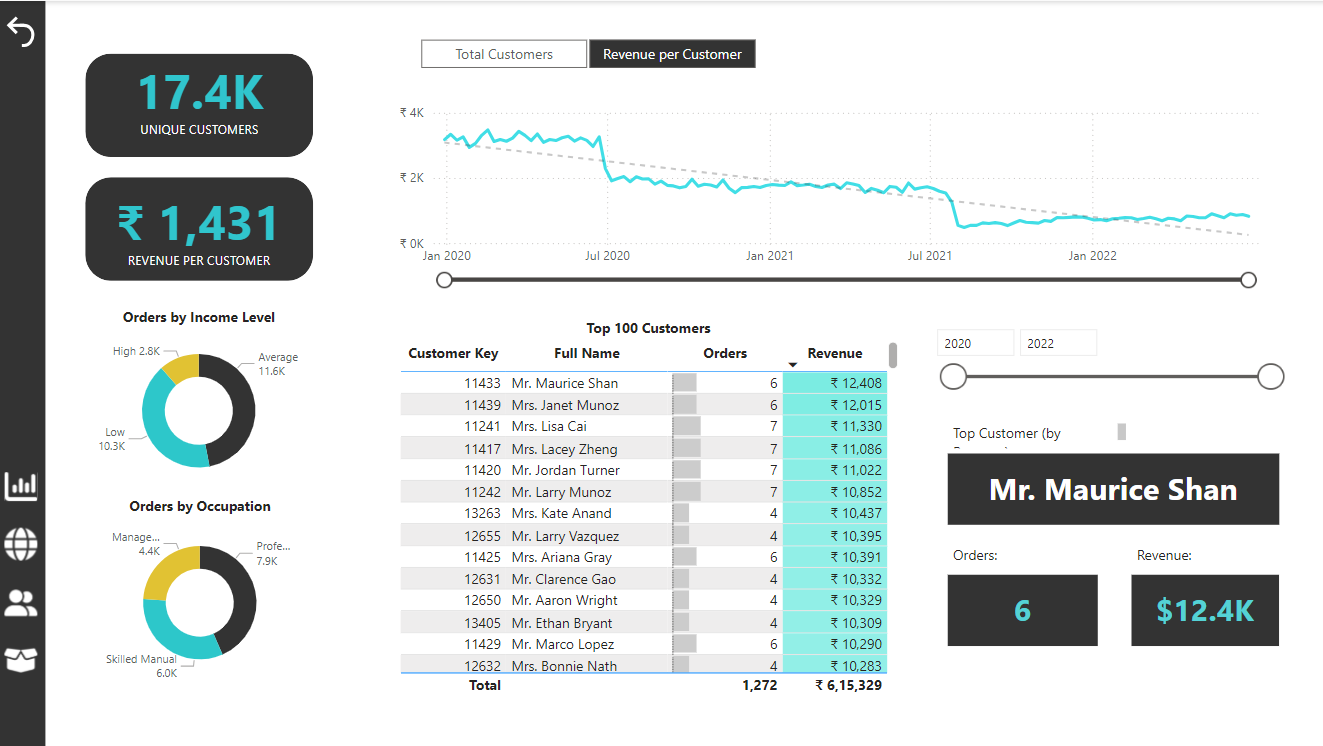

Layout of this report page (visuals, bound fields, positions):
{"tool":"powerbi","page":{"name":"Customer Detail","canvas":[1280,720],"ordinal":3},"visuals":[{"type":"actionButton","box":[1.2,448.8,44.6,39.8],"z":0,"group":"g1"},{"type":"lineChart","title":"Customer Base Trending","fields":{"Y":["Measure Table.Average Revenue per Customer"],"Category":["Calendar Lookup.Date Hierarchy.Start of Year","Calendar Lookup.Date Hierarchy.Start of Month","Calendar Lookup.Date Hierarchy.Start of Week","Calendar Lookup.Date Hierarchy.Date"]},"box":[381.2,94.1,854.2,185.8],"z":0},{"type":"shape","box":[0,0,45,720],"z":1000},{"type":"actionButton","box":[1.2,504.7,44.6,39.8],"z":1000,"group":"g1"},{"type":"shape","box":[83.4,51,220,100],"z":2000},{"type":"actionButton","box":[1.2,616.5,44.6,39.8],"z":2000,"group":"g1"},{"type":"actionButton","box":[1.2,560.6,44.6,39.8],"z":3000,"group":"g1"},{"type":"shape","box":[83,170,220,100],"z":3000},{"type":"card","fields":{"Values":["Measure Table.Average Revenue per Customer"]},"box":[69.2,143.8,248.8,151.2],"z":4000},{"type":"card","fields":{"Values":["Measure Table.Total Customers"]},"box":[69.1,18.6,249.7,150.8],"z":5000},{"type":"donutChart","title":"Orders by Income Level","fields":{"Category":["Customer Lookup.Income Level"],"Y":["Measure Table.Total Orders"]},"box":[90,295,205,182.5],"z":6000},{"type":"donutChart","title":"Orders by Occupation","fields":{"Y":["Measure Table.Total Orders"],"Category":["Customer Lookup.Occupation"]},"box":[97.5,477.5,192.5,188.8],"z":7000},{"type":"tableEx","title":"Top 100 Customers","fields":{"Values":["Customer Lookup.CustomerKey","Customer Lookup.Full Name","Measure Table.Total Orders","Measure Table.Total Revenue"]},"box":[381.2,306.4,491,368],"z":8000},{"type":"card","fields":{"Values":["Measure Table.Full Name(Customer Detail)"]},"box":[915.4,436.2,319.7,68.8],"z":9000},{"type":"card","fields":{"Values":["Measure Table.Total Orders(Customer Detail)"]},"box":[915.4,553.3,144.8,68.8],"z":10000},{"type":"card","fields":{"Values":["Measure Table.Total Revenue(Customer Detail)"]},"box":[1092.8,553.3,142.4,68.8],"z":11000},{"type":"textbox","box":[915.4,519.5,144.8,33.8],"z":12000},{"type":"textbox","box":[915.4,402.5,177.3,33.8],"z":13000},{"type":"textbox","box":[1092.8,519.5,142.4,33.8],"z":14000},{"type":"slicer","fields":{"Values":["Calendar Lookup.Year"]},"box":[892.8,306.4,355.9,88.1],"z":15000},{"type":"actionButton","box":[1.2,9.7,42.2,39.8],"z":16000},{"type":"group","id":"g1","title":"Nav Buttons","box":[1.2,448.8,44.6,207.5],"z":17000},{"type":"slicer","fields":{"Values":["Customer Selection.Customer Selection"]},"box":[381.2,30.2,372.8,41],"z":18000}]}

Visuals, with their boxes on the page's 1280x720 design canvas (x1, y1, x2, y2). These are canvas units, not pixel positions in the 1323x746 screenshot, which may show the page scaled, cropped or inside an application window:
actionButton: {"left": 1, "top": 449, "right": 46, "bottom": 489}
"Customer Base Trending" lineChart: {"left": 381, "top": 94, "right": 1235, "bottom": 280}
shape: {"left": 0, "top": 0, "right": 45, "bottom": 720}
actionButton: {"left": 1, "top": 505, "right": 46, "bottom": 544}
shape: {"left": 83, "top": 51, "right": 303, "bottom": 151}
actionButton: {"left": 1, "top": 616, "right": 46, "bottom": 656}
actionButton: {"left": 1, "top": 561, "right": 46, "bottom": 600}
shape: {"left": 83, "top": 170, "right": 303, "bottom": 270}
card - Measure Table.Average Revenue per Customer: {"left": 69, "top": 144, "right": 318, "bottom": 295}
card - Measure Table.Total Customers: {"left": 69, "top": 19, "right": 319, "bottom": 169}
"Orders by Income Level" donutChart: {"left": 90, "top": 295, "right": 295, "bottom": 478}
"Orders by Occupation" donutChart: {"left": 98, "top": 478, "right": 290, "bottom": 666}
"Top 100 Customers" tableEx: {"left": 381, "top": 306, "right": 872, "bottom": 674}
card - Measure Table.Full Name(Customer Detail): {"left": 915, "top": 436, "right": 1235, "bottom": 505}
card - Measure Table.Total Orders(Customer Detail): {"left": 915, "top": 553, "right": 1060, "bottom": 622}
card - Measure Table.Total Revenue(Customer Detail): {"left": 1093, "top": 553, "right": 1235, "bottom": 622}
textbox: {"left": 915, "top": 520, "right": 1060, "bottom": 553}
textbox: {"left": 915, "top": 402, "right": 1093, "bottom": 436}
textbox: {"left": 1093, "top": 520, "right": 1235, "bottom": 553}
slicer - Calendar Lookup.Year: {"left": 893, "top": 306, "right": 1249, "bottom": 394}
actionButton: {"left": 1, "top": 10, "right": 43, "bottom": 50}
"Nav Buttons" group: {"left": 1, "top": 449, "right": 46, "bottom": 656}
slicer - Customer Selection.Customer Selection: {"left": 381, "top": 30, "right": 754, "bottom": 71}
